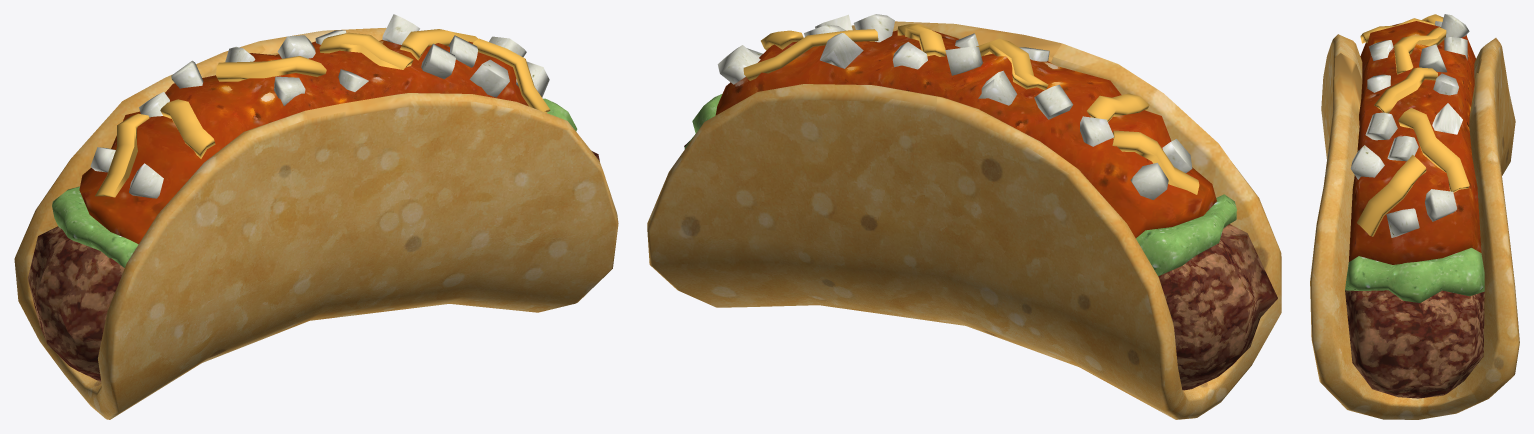
The model's file is tacos_mex.glb.
3 views of the same model, side by side, from view 1: azimuth 30°, elevation 25°; view 2: azimuth 150°, elevation 25°; view 3: azimuth 270°, elevation 25° (orthographic). The views are drawn at different scales.
Visible parts, largest first — view 1: TacoBandit_TacoMaterial:tacobandit_taco_Mesh_lod.000; view 2: TacoBandit_TacoMaterial:tacobandit_taco_Mesh_lod.000; view 3: TacoBandit_TacoMaterial:tacobandit_taco_Mesh_lod.000.
Part boxes in pixels (x1=…): TacoBandit_TacoMaterial:tacobandit_taco_Mesh_lod.000: x1=14, y1=14, x2=618, y2=419; TacoBandit_TacoMaterial:tacobandit_taco_Mesh_lod.000: x1=647, y1=14, x2=1281, y2=419; TacoBandit_TacoMaterial:tacobandit_taco_Mesh_lod.000: x1=1310, y1=14, x2=1519, y2=419.
Size of the model in its own units: 0.4284 by 0.2368 by 0.1599.
1 material, 1 textured.
